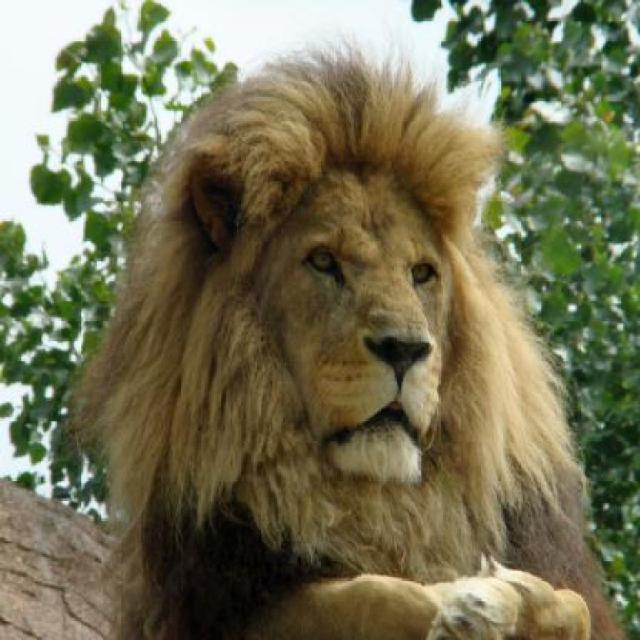Lion: (52, 52, 625, 638)
